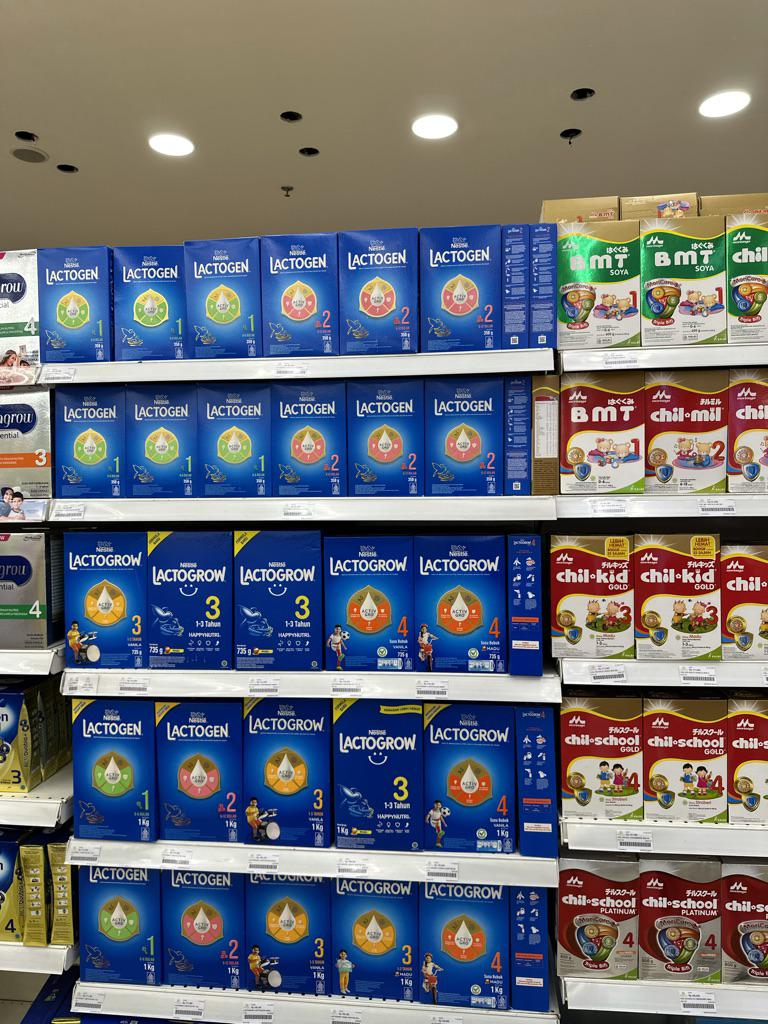LACTOGEN 1 Happynutri 12x1kg ID_REDESIGN2: (69, 699, 156, 843), (77, 865, 161, 987)
LACTOGEN 1 Happynutri 24x350g N1 ID_REDESIGN2: (185, 234, 264, 358), (125, 381, 200, 499), (38, 243, 112, 362), (113, 245, 188, 361), (196, 381, 271, 497), (53, 384, 126, 499)
LACTOGEN 2 Happynutri 12x1kg ID_REDESIGN2: (153, 701, 244, 843), (161, 869, 247, 989)
LACTOGEN 2 Happynutri 24x350g N1 ID_REDESIGN2: (418, 223, 502, 351), (336, 226, 419, 355), (259, 230, 341, 358), (423, 378, 503, 497), (345, 381, 425, 499), (269, 381, 348, 497)
LACTOGROW 3 Happynutri Honey 12x1kg N1 ID_REDESIGN2: (245, 871, 334, 999), (329, 874, 418, 1002)
LACTOGROW 3 Happynutri Van 12x1kg ID_REDESIGN2: (243, 696, 332, 849)
LACTOGROW 3 Happynutri Van 12x750g N1 ID_REDESIGN2: (62, 531, 149, 670)
